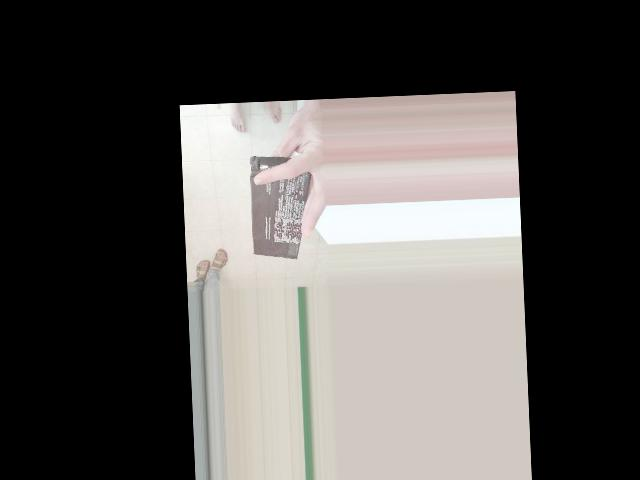chocolate: (248, 154, 316, 264)
